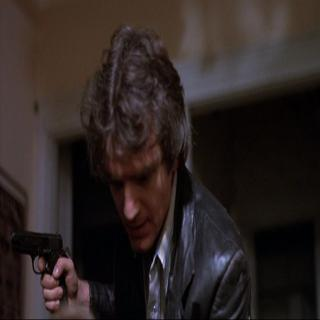gun: (7, 218, 72, 318)
